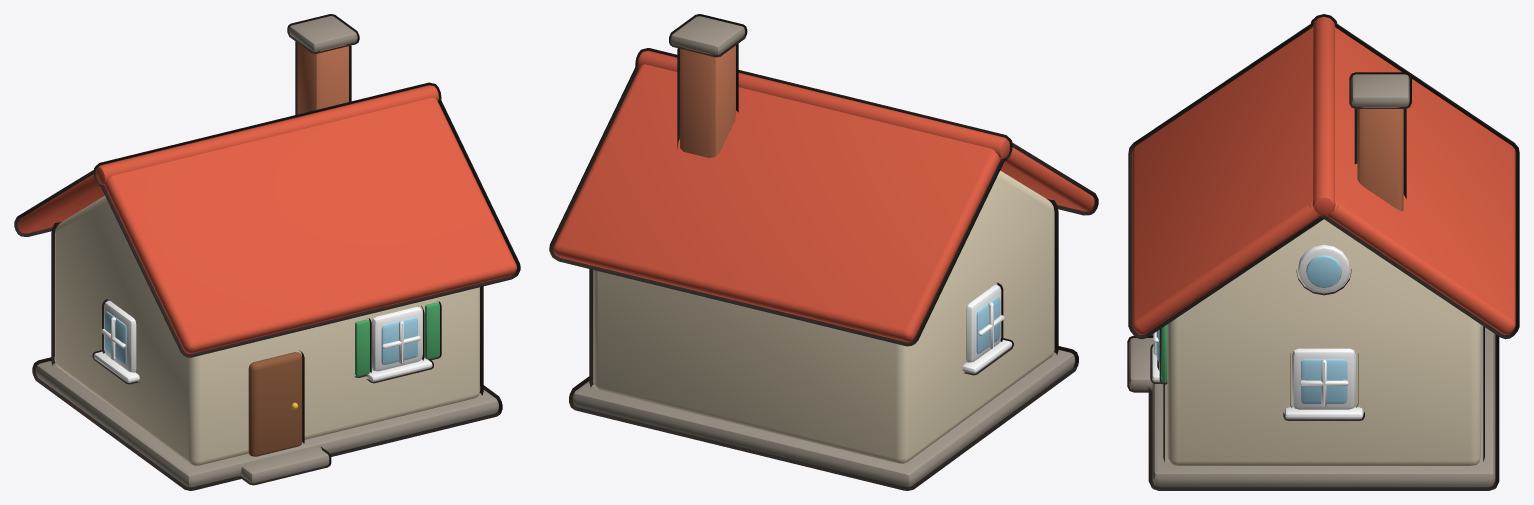
The model's file is House_Red.fbx.
3 views of the same model, side by side, from view 1: azimuth 30°, elevation 25°; view 2: azimuth 150°, elevation 25°; view 3: azimuth 270°, elevation 25° (orthographic). The views are drawn at different scales.
Parts seen in each view (by area): view 1: BL_House_Red_RoofRed, BL_House_Red_WallCream, BL_House_Red_StoneDark, BL_House_Red_Outline, BL_House_Red_Door, BL_House_Red_Frame, BL_House_Red_WallBrick, BL_House_Red_Window, BL_House_Red_AwningGreen; view 2: BL_House_Red_RoofRed, BL_House_Red_WallCream, BL_House_Red_StoneDark, BL_House_Red_Outline, BL_House_Red_WallBrick, BL_House_Red_Frame, BL_House_Red_Window; view 3: BL_House_Red_RoofRed, BL_House_Red_WallCream, BL_House_Red_StoneDark, BL_House_Red_Outline, BL_House_Red_Frame, BL_House_Red_WallBrick, BL_House_Red_Window.
Boxes of the visible parts, x1,y1,x2,y2 form: BL_House_Red_RoofRed: (18,85,516,353); BL_House_Red_WallCream: (54,196,480,465); BL_House_Red_StoneDark: (36,16,498,487); BL_House_Red_Outline: (14,14,520,490); BL_House_Red_Door: (248,352,302,456); BL_House_Red_Frame: (94,301,432,382); BL_House_Red_WallBrick: (297,43,348,114); BL_House_Red_Window: (105,311,417,364); BL_House_Red_AwningGreen: (355,302,439,376); BL_House_Red_RoofRed: (553,50,1094,342); BL_House_Red_WallCream: (593,170,1054,463); BL_House_Red_StoneDark: (573,16,1074,486); BL_House_Red_Outline: (549,14,1098,490); BL_House_Red_WallBrick: (680,45,735,157); BL_House_Red_Frame: (962,285,1012,373); BL_House_Red_Window: (976,296,1000,353); BL_House_Red_RoofRed: (1132,17,1515,335); BL_House_Red_WallCream: (1167,219,1480,465); BL_House_Red_StoneDark: (1129,74,1495,487); BL_House_Red_Outline: (1127,14,1519,490); BL_House_Red_Frame: (1152,245,1363,419); BL_House_Red_WallBrick: (1357,107,1403,210); BL_House_Red_Window: (1156,255,1347,403).
Size of the model in its own units: 7.5 by 7.03 by 6.76.
